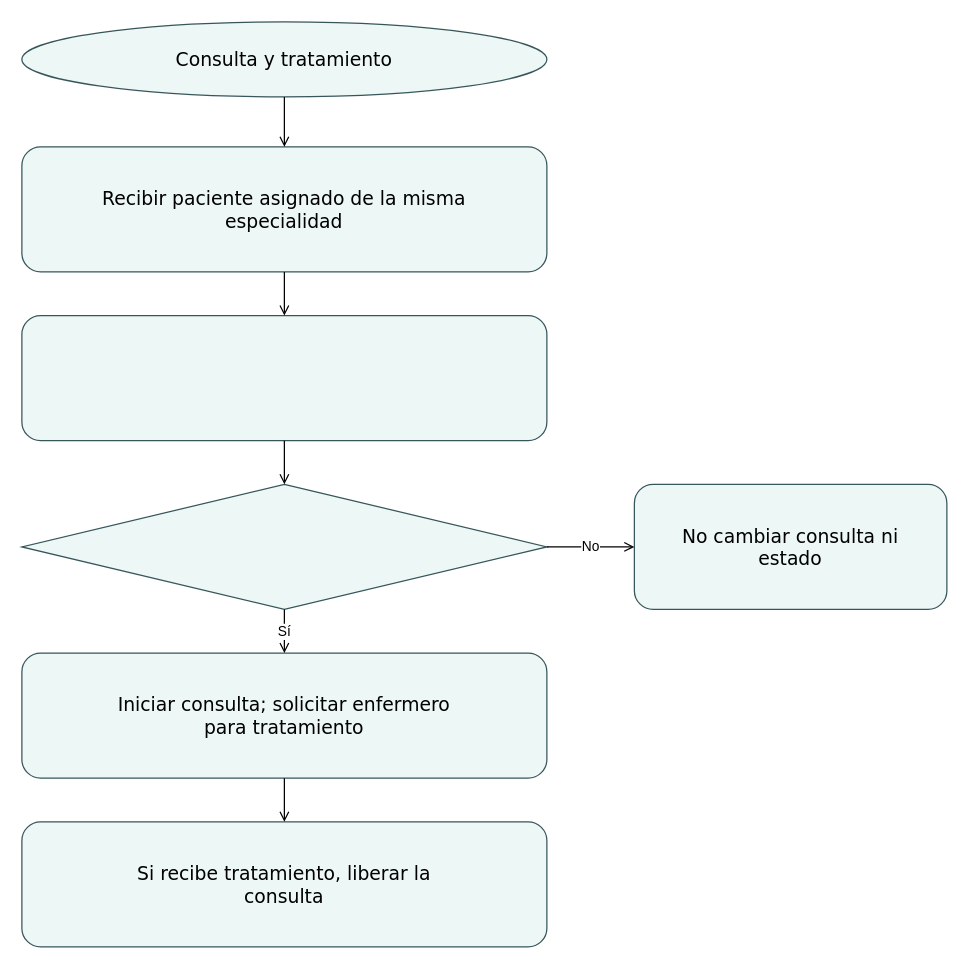
This 969x969 diagram has some shape labels left out. The shapes that lost their labels are listed below. From the top down, each one's box as (x1, y1, x2, y2) in pixels, then its label:
(21, 314, 547, 441): Comprobar cupo de 10 y una sola consulta activa
(21, 483, 547, 609): ¿Paciente en espera y médico libre?
